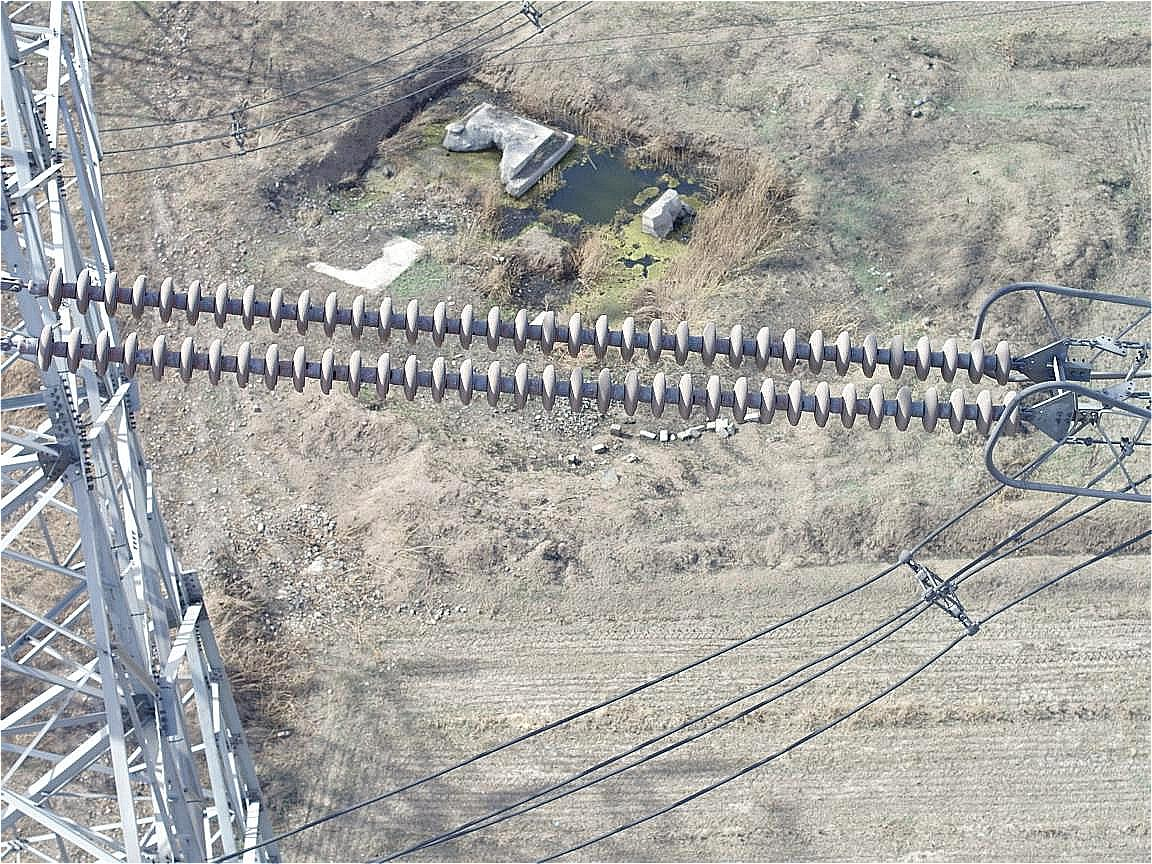insultor1: (28, 252, 1064, 464)
